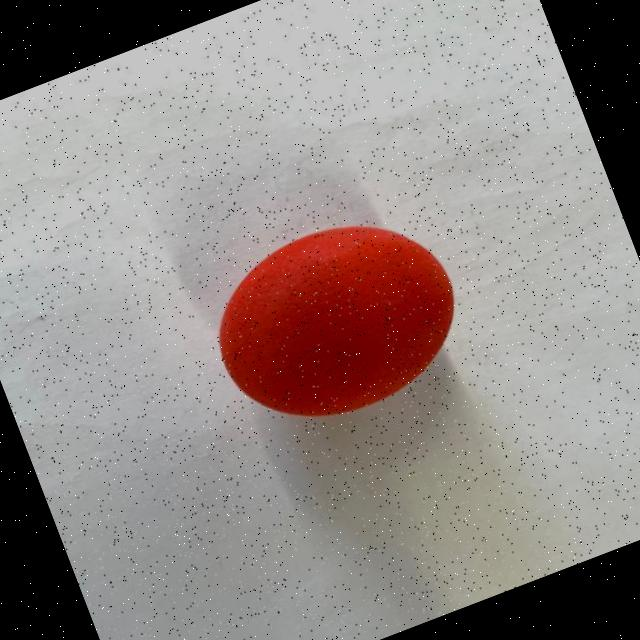ping-pong-ball: (192, 190, 482, 443)
